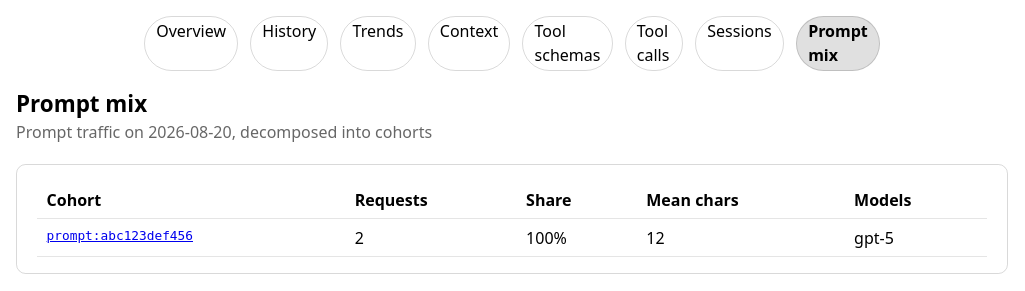
Test: Boat inspection routes › renders the prompt mix and drills down by cohort hash to prompts
Check: the element with test id "boat-prompt-mix" is shown, box [16,164,1008,274]
Click the link "prompt:abc123def456" at (120, 235), box [47,228,193,243]
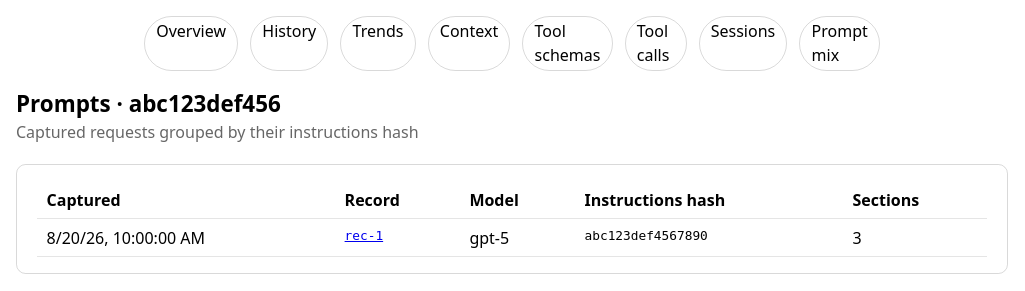
Check: the table with test id "boat-prompts-table" is shown, box [37,181,987,257]
